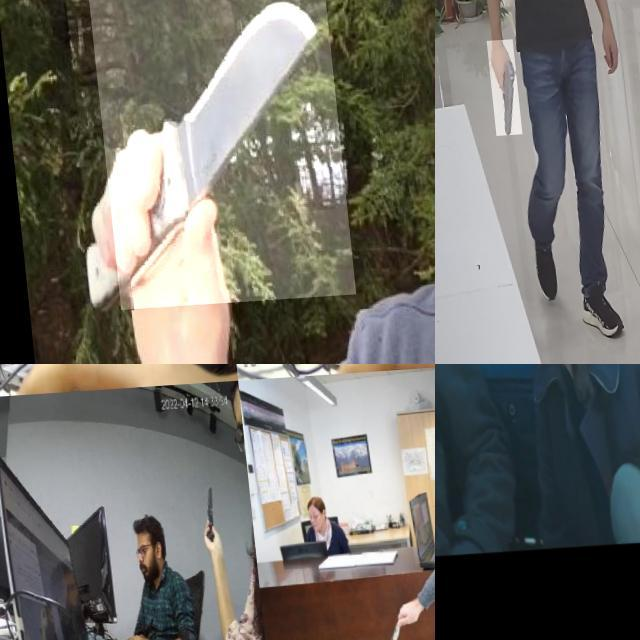-: (85, 0, 346, 311), (191, 485, 210, 547), (363, 618, 394, 640), (108, 364, 131, 389)
gun-knife-thesis - v11 Yolov5 augmented: (435, 364, 474, 481), (480, 41, 514, 138)
